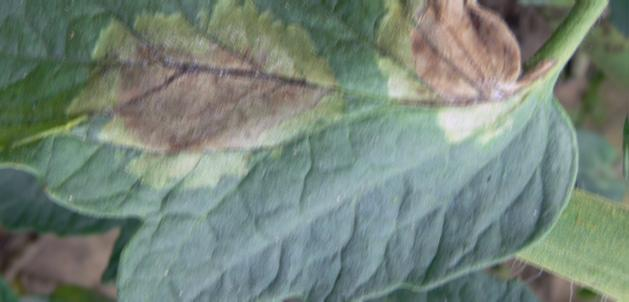Tomato leaf late blight: (0, 0, 594, 302)
